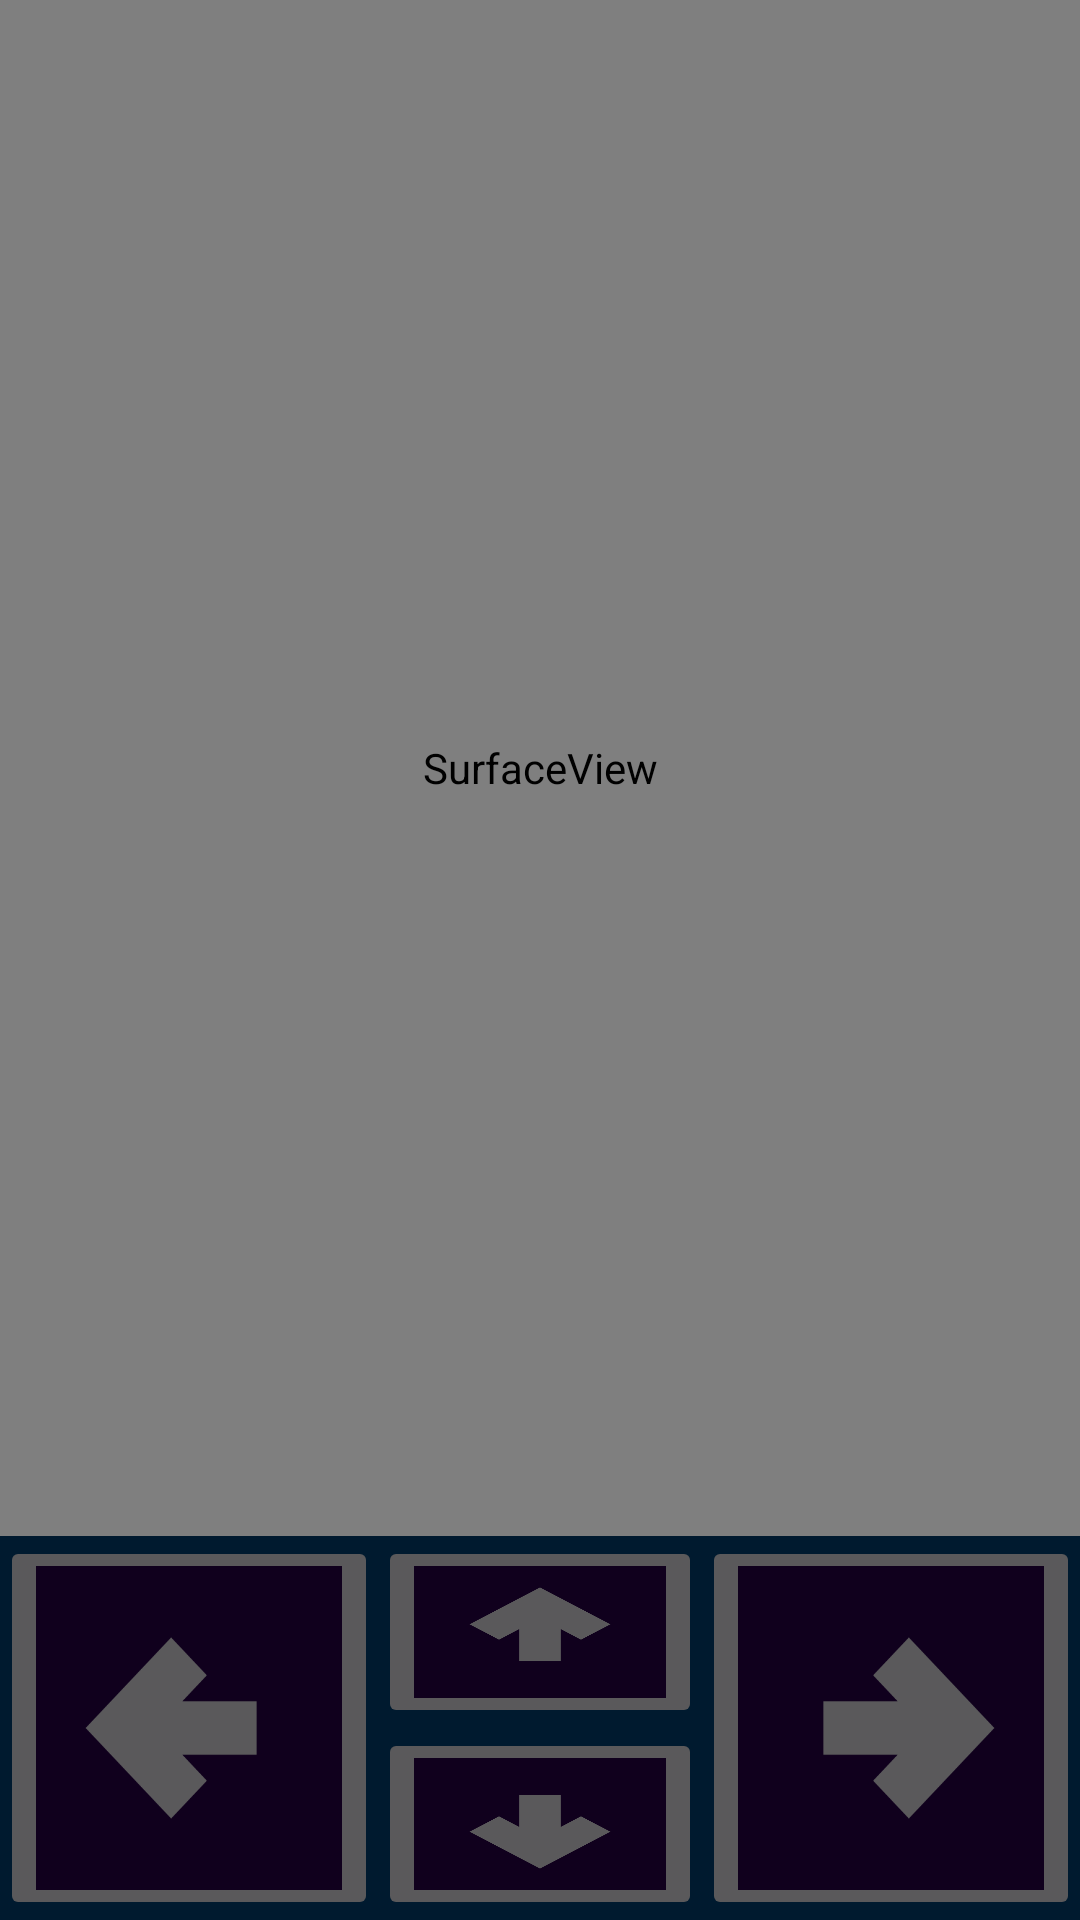

Named icons in this screenshot (1080x1920) and their bounding boxes, (x1, y1, x2, y2):
down arrow: (390, 1746, 690, 1902)
left arrow: (12, 1554, 366, 1902)
right arrow: (714, 1554, 1068, 1902)
up arrow: (390, 1554, 690, 1710)
